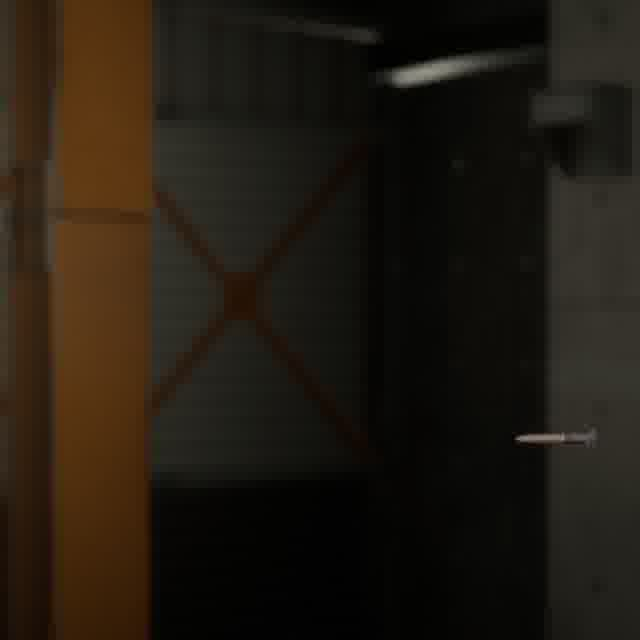bolt: (511, 423, 601, 452)
